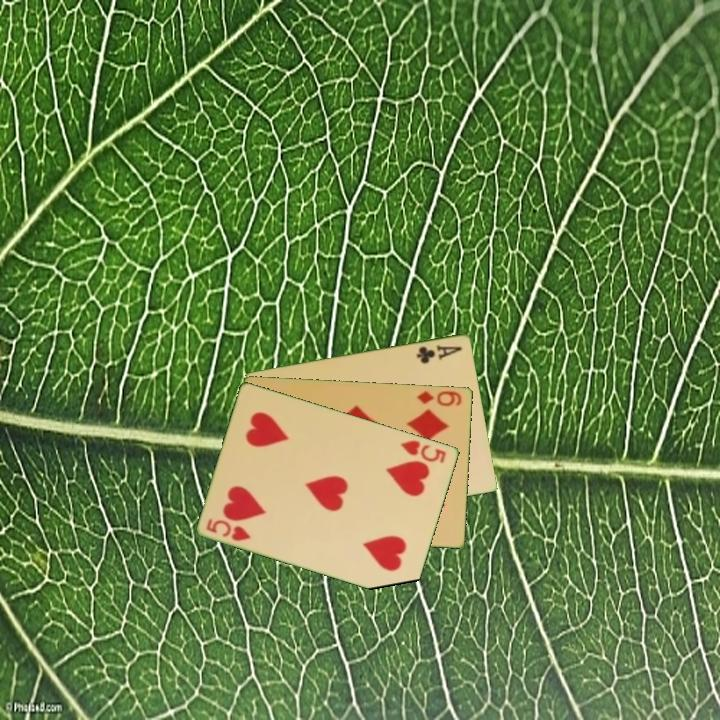5h: (397, 436, 449, 466), (203, 514, 254, 544)
6d: (413, 387, 465, 409)
Ac: (413, 341, 465, 366)
